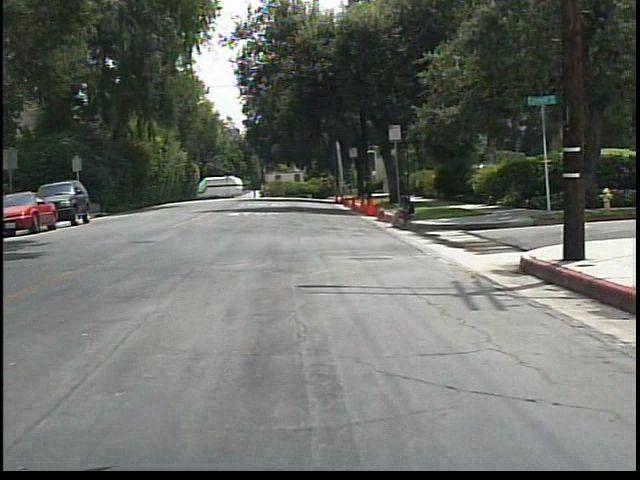person: (388, 191, 421, 234)
